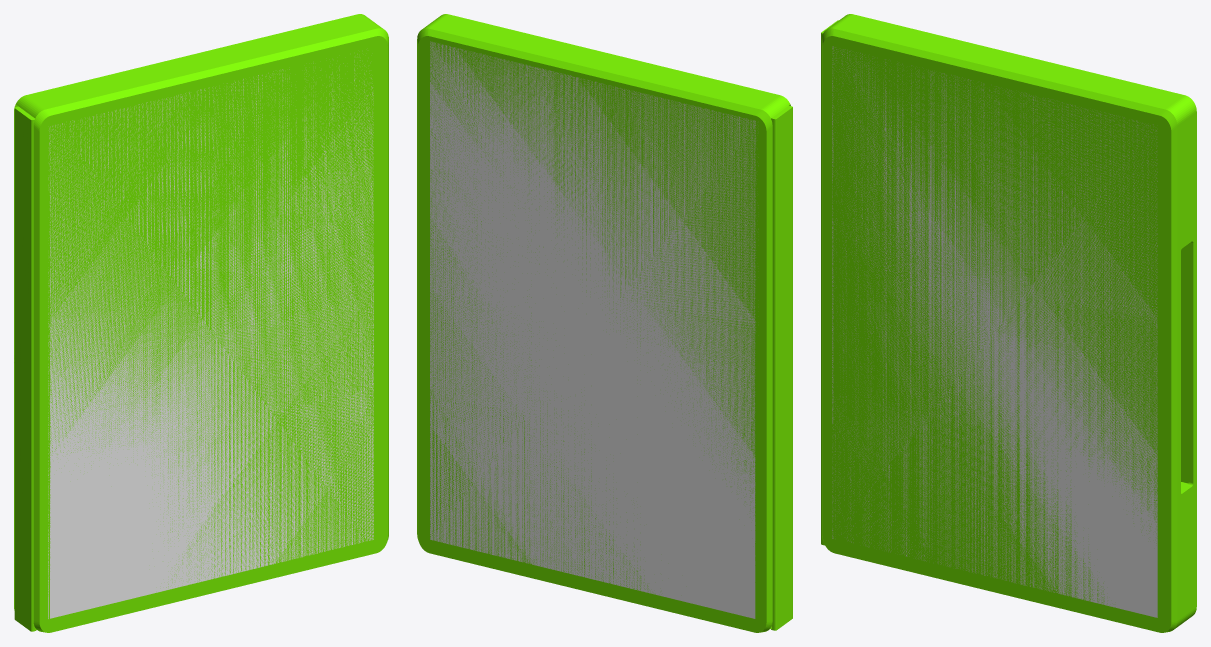
3 renders of one model, left to right at view 1: azimuth 30°, elevation 25°; view 2: azimuth 150°, elevation 25°; view 3: azimuth 330°, elevation 25°, orthographic.
Visible parts, largest first — view 1: grand theft auto iv game case; view 2: grand theft auto iv game case; view 3: grand theft auto iv game case.
Boxes of the visible parts, bbox=[...] form: grand theft auto iv game case: bbox=[14, 14, 388, 632]; grand theft auto iv game case: bbox=[417, 14, 792, 632]; grand theft auto iv game case: bbox=[821, 14, 1196, 632].
Size of the model in its own units: 408 by 570 by 48.35.
